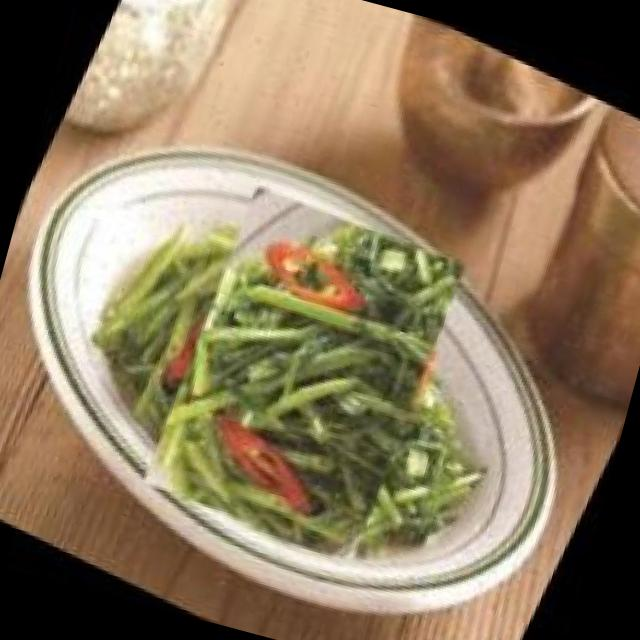water_spinach: (94, 164, 514, 584)
